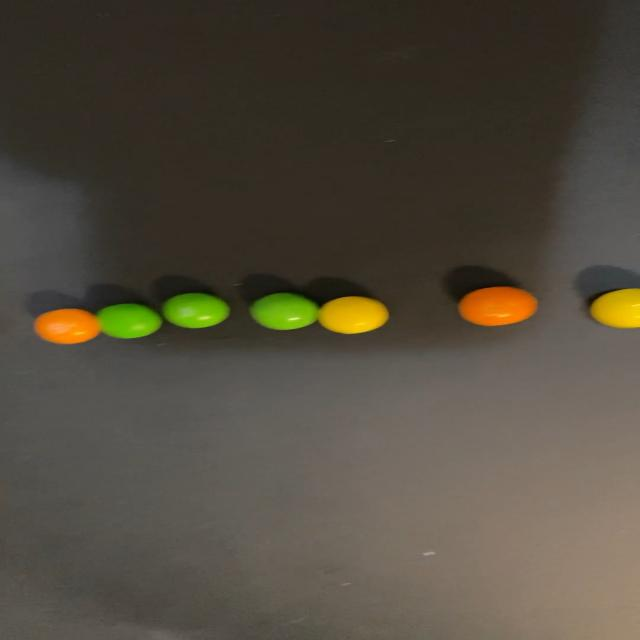smartie: (459, 287, 536, 326), (318, 296, 388, 334), (249, 293, 318, 330), (161, 293, 229, 328), (33, 309, 99, 344), (95, 304, 161, 338), (591, 288, 640, 328)
